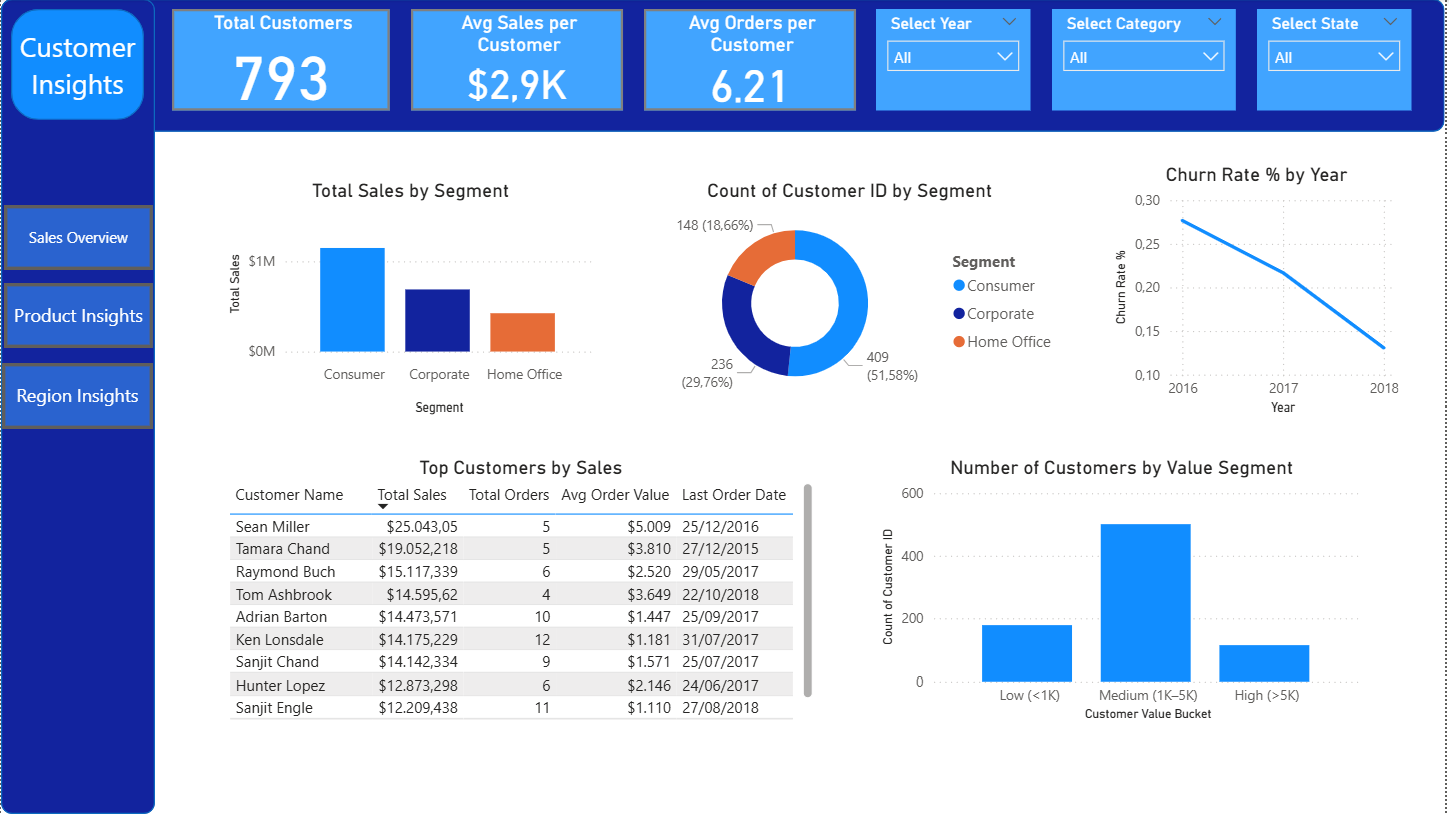

What the dashboard file says about the page in this screenshot:
{"tool":"powerbi","page":{"name":"Customer Insights","canvas":[1280,720],"ordinal":2},"visuals":[{"type":"shape","box":[0,0,1280,117.7],"z":0},{"type":"shape","box":[0,0.3,136.6,720],"z":1000},{"type":"columnChart","fields":{"Y":["train.Total Sales"],"Category":["train.Segment"]},"box":[196.5,158.5,332.6,213],"z":2000},{"type":"donutChart","fields":{"Category":["CustomerActivity.Segment"],"Y":["CustomerActivity.Customer ID"]},"box":[559.3,158.5,386.1,201.3],"z":3000},{"type":"tableEx","title":"Top Customers by Sales","fields":{"Values":["train.Customer Name","train.Total Sales","train.Total Orders","train.Avg Order Value","train.Last Order Date (All Time)"]},"box":[196.5,403.6,528.1,238.3],"z":4000},{"type":"columnChart","title":"Number of Customers by Value Segment","fields":{"Y":["train.Customer ID"],"Category":["train.Customer Value Bucket"]},"box":[776.2,403.6,435.7,238.3],"z":5000},{"type":"shape","box":[8.9,8.9,117.9,98.4],"z":6000},{"type":"card","title":"Total Customers","fields":{"Values":["train.Total Customers"]},"box":[151.6,8.9,193.3,90.4],"z":7000},{"type":"card","title":"Avg Sales per Customer","fields":{"Values":["train.Avg Sales per Customer"]},"box":[363.4,8.9,188,90.4],"z":8000},{"type":"card","title":"Avg Orders per Customer","fields":{"Values":["train.Avg Orders per Customer"]},"box":[569.8,8.9,188,90.4],"z":9000},{"type":"slicer","fields":{"Values":["train.Year"]},"box":[776.2,8.8,137.1,90.5],"z":10000},{"type":"actionButton","title":"Product Insights","box":[2.7,181.8,132.1,57.6],"z":11000},{"type":"actionButton","title":"Product Insights","box":[2.7,250.9,132.1,57.6],"z":12000},{"type":"actionButton","title":"Product Insights","box":[0.9,321.9,133.9,57.6],"z":13000},{"type":"lineChart","fields":{"Category":["CustomerActivity.Year"],"Y":["CustomerActivity.Churn Rate %"]},"box":[982.4,144.9,261.6,226.6],"z":14000},{"type":"slicer","fields":{"Values":["CustomerActivity.State"]},"box":[1113.7,8.8,137.1,90.5],"z":15000},{"type":"slicer","fields":{"Values":["train.Category"]},"box":[931.8,8.8,163.4,90.5],"z":16000}]}

Visuals, with their boxes in screenshot pixels (x1, y1, x2, y2), scaled from the page's 1280x720 canvas onto the 1449x816 screenshot:
shape: rect(0, 0, 1448, 133)
shape: rect(0, 0, 155, 815)
columnChart - train.Total Sales x train.Segment: rect(222, 180, 599, 421)
donutChart - CustomerActivity.Segment x CustomerActivity.Customer ID: rect(633, 180, 1070, 408)
"Top Customers by Sales" tableEx: rect(222, 457, 820, 727)
"Number of Customers by Value Segment" columnChart: rect(879, 457, 1372, 727)
shape: rect(10, 10, 144, 122)
"Total Customers" card: rect(172, 10, 390, 113)
"Avg Sales per Customer" card: rect(411, 10, 624, 113)
"Avg Orders per Customer" card: rect(645, 10, 858, 113)
slicer - train.Year: rect(879, 10, 1034, 113)
"Product Insights" actionButton: rect(3, 206, 153, 271)
"Product Insights" actionButton: rect(3, 284, 153, 350)
"Product Insights" actionButton: rect(1, 365, 153, 430)
lineChart - CustomerActivity.Year x CustomerActivity.Churn Rate %: rect(1112, 164, 1408, 421)
slicer - CustomerActivity.State: rect(1261, 10, 1416, 113)
slicer - train.Category: rect(1055, 10, 1240, 113)
